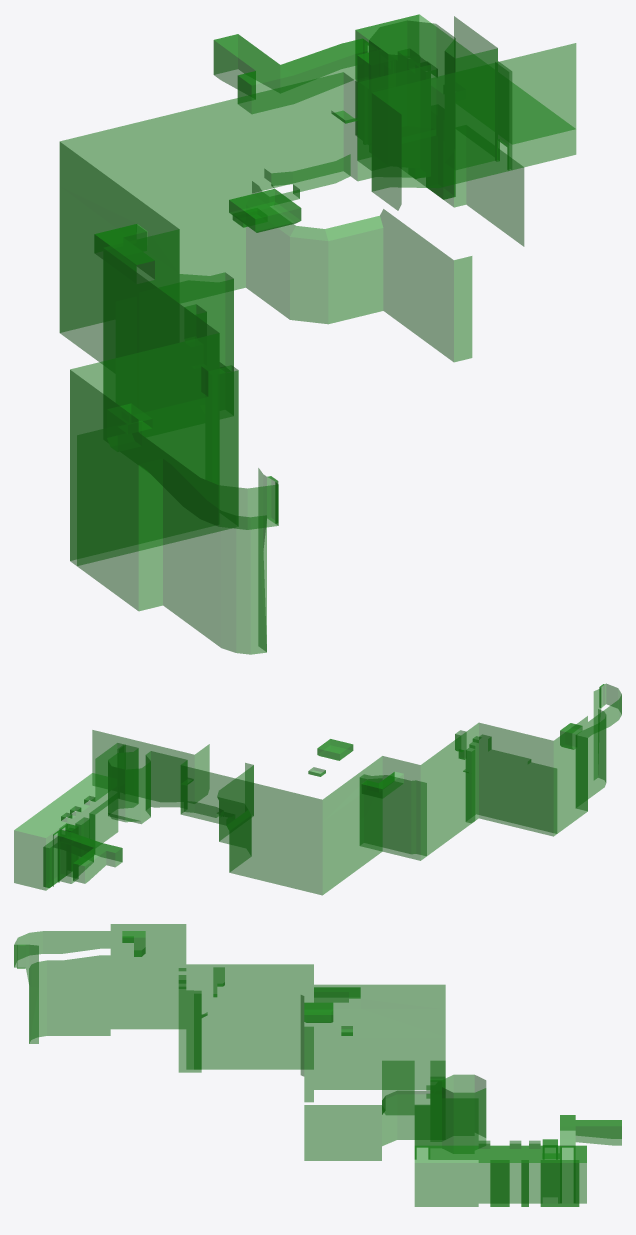
Rendered from Hit_C01_Wall.obj.
The picture shows the model from 3 angles, top to bottom: view 1: azimuth 30°, elevation 25°; view 2: azimuth 150°, elevation 25°; view 3: azimuth 270°, elevation 25°; orthographic projection. The views are drawn at different scales.
Size of the model in its own units: 234 by 60 by 314.
